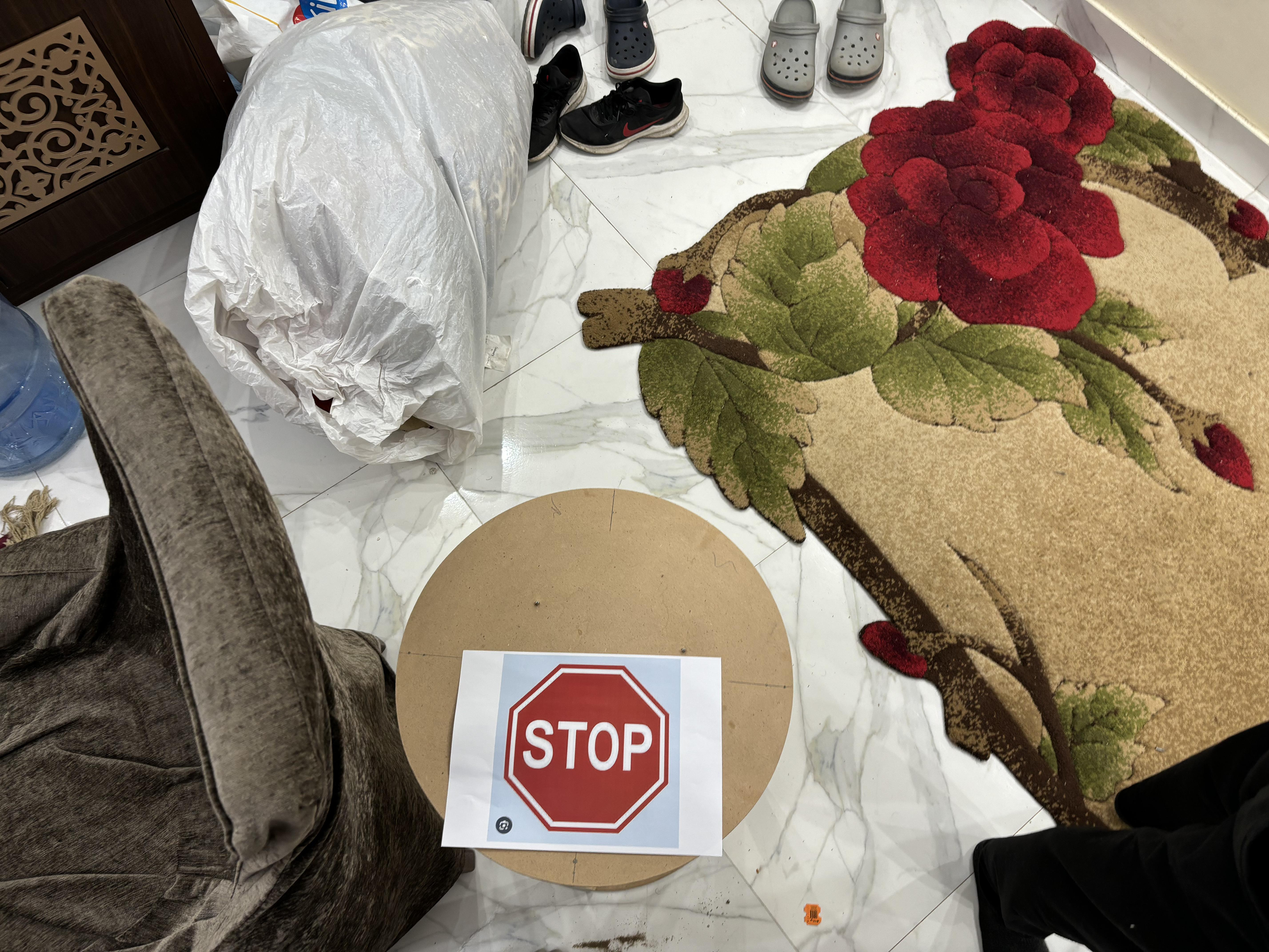Stop: (500, 658, 677, 839)
